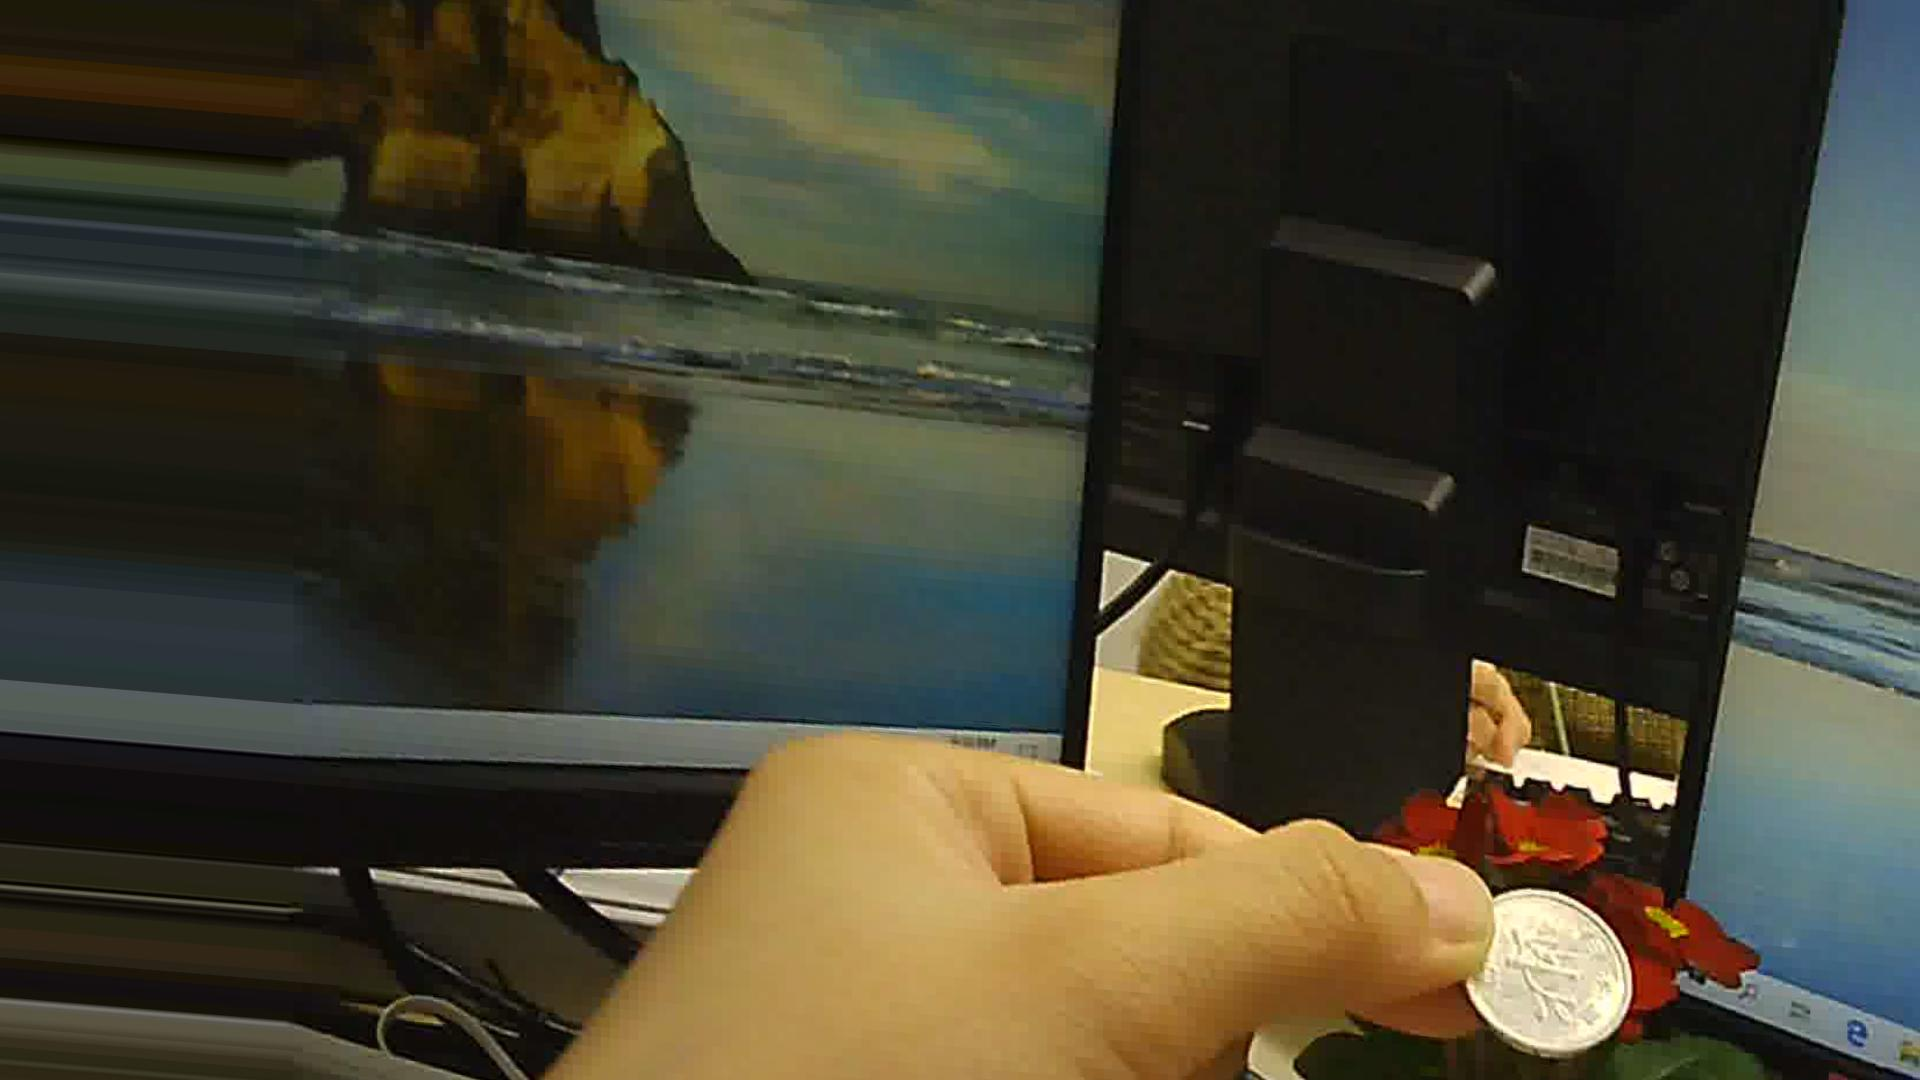1 Yen: (1460, 891, 1633, 1051)
